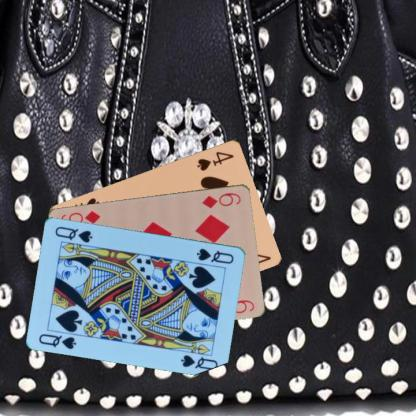4s: (194, 149, 235, 172)
6d: (199, 190, 242, 210)
Qs: (36, 331, 78, 350), (194, 246, 235, 265)
